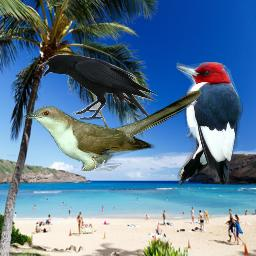Crow: (39, 54, 159, 121)
Cuckoo: (23, 89, 202, 171)
Woodpecker: (176, 58, 243, 189)
